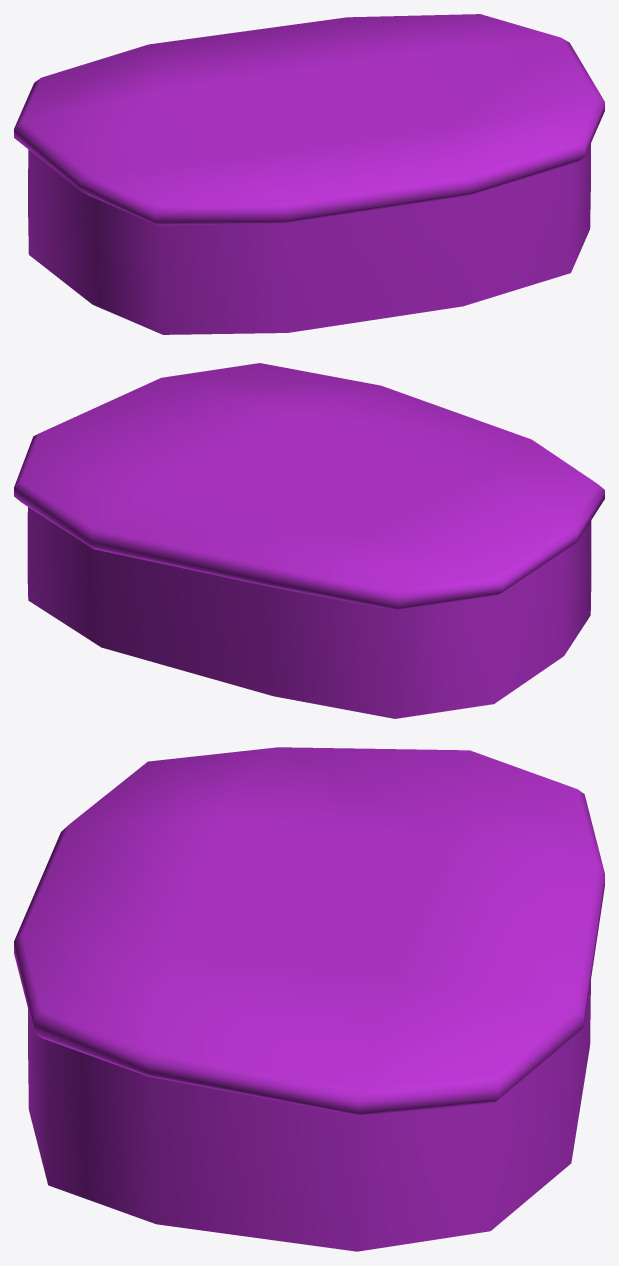
The model's file is platform.fbx.
3 renders of one model, top to bottom at view 1: azimuth 30°, elevation 25°; view 2: azimuth 150°, elevation 25°; view 3: azimuth 270°, elevation 25°, orthographic. The views are drawn at different scales.
Visible parts, largest first — view 1: ground 01; view 2: ground 01; view 3: ground 01.
Boxes of the visible parts, x1,y1,x2,y2 form: ground 01: [14, 14, 604, 334]; ground 01: [14, 363, 604, 718]; ground 01: [14, 747, 604, 1251].
Bounding box in the file's own units: 108 × 26.47 × 79.66.
